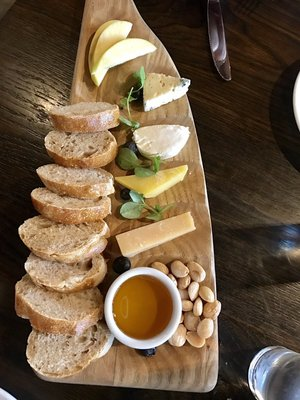salad: (207, 0, 231, 82)
steak: (115, 164, 189, 198)
sushi: (104, 266, 183, 353)
